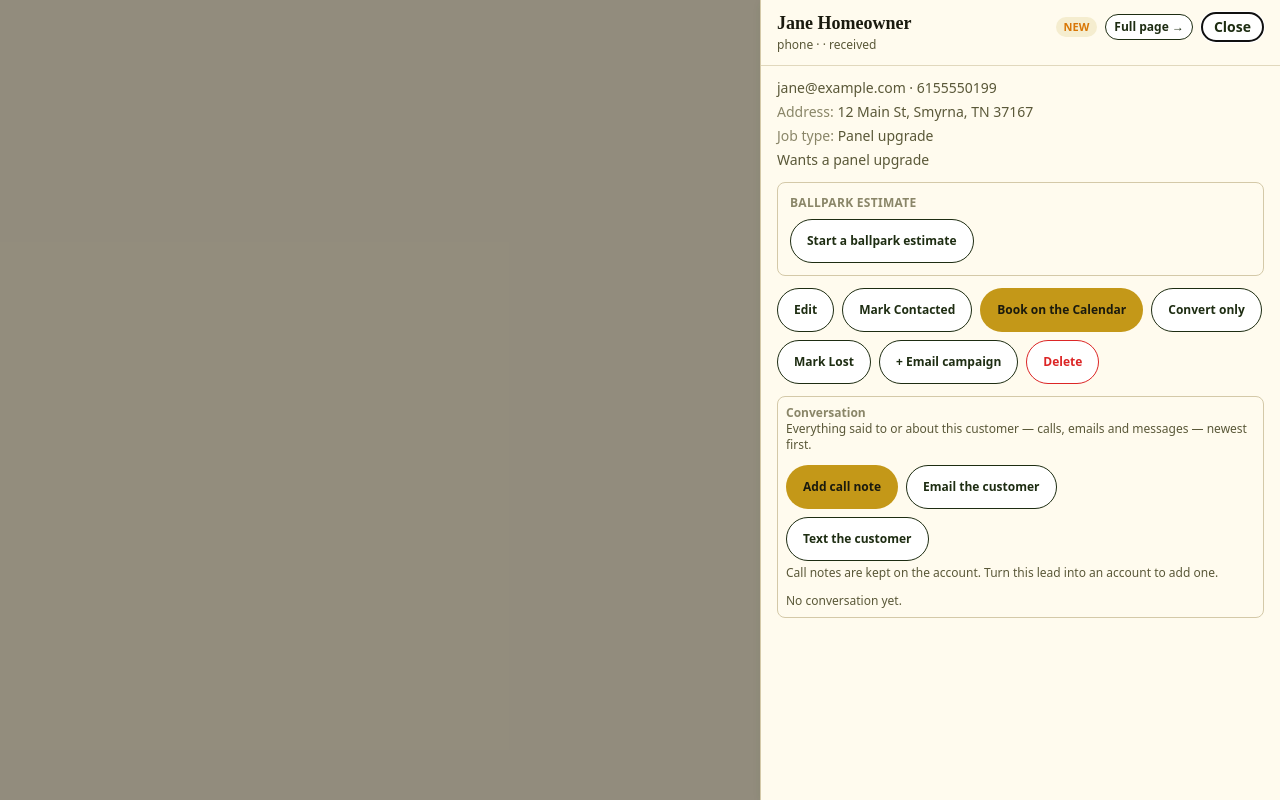
LeadDrawer › a brand-new hand-entered lead (phone source, smsConsent null, never on the website form) can be texted: Text the customer, type, Send text
Click the button "Text the customer" at (857, 538), box 786,516 -> 928,560
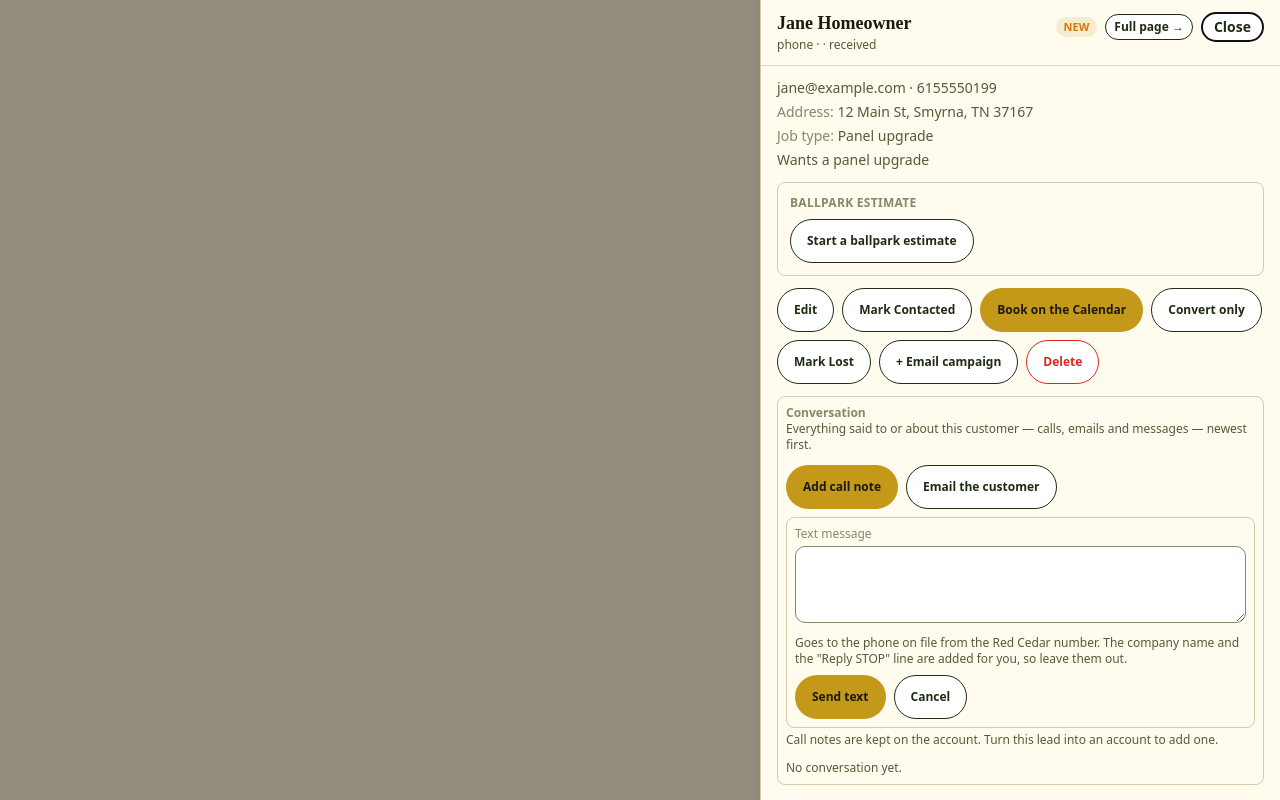
Type "We can be there Tuesday at 9. Does that work?" into the text box labelled "Text message" at (1020, 584), box 795,546 -> 1246,624
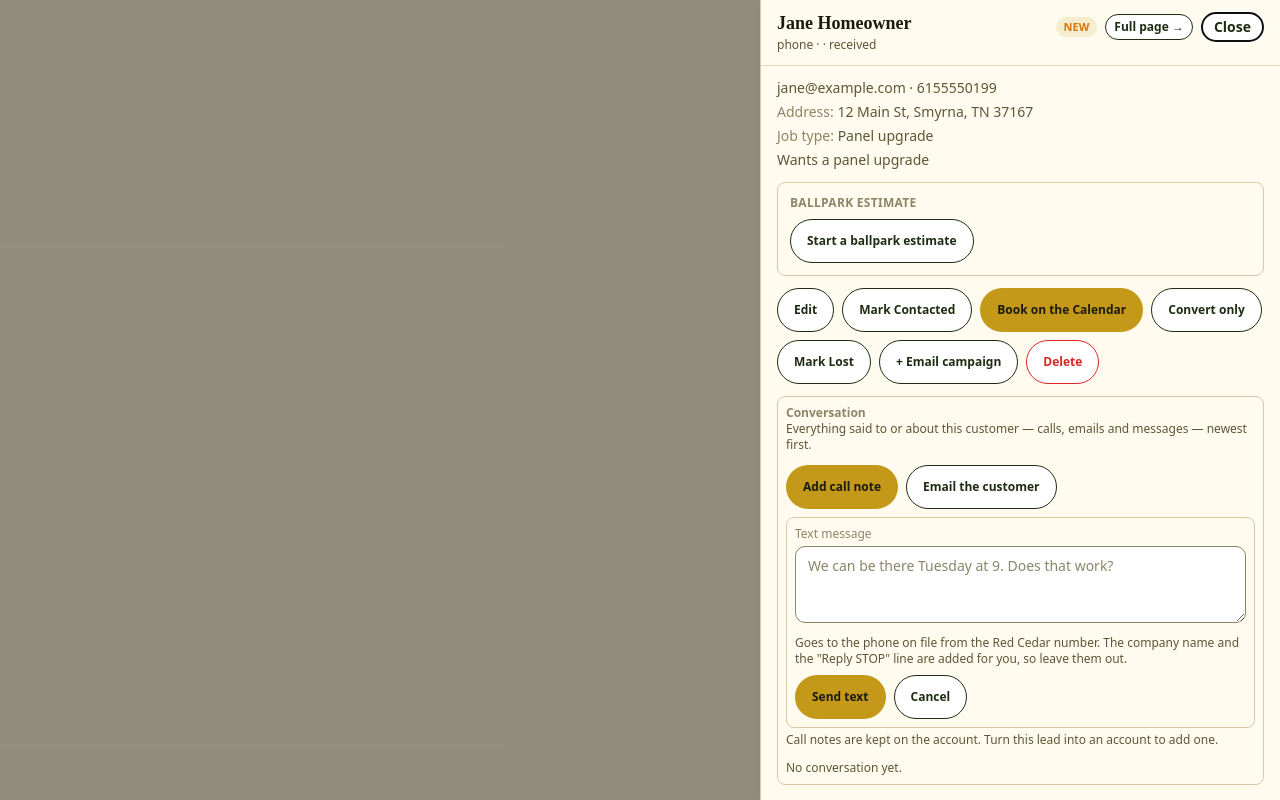
Click the button "Send text" at (840, 698), box 795,676 -> 886,720
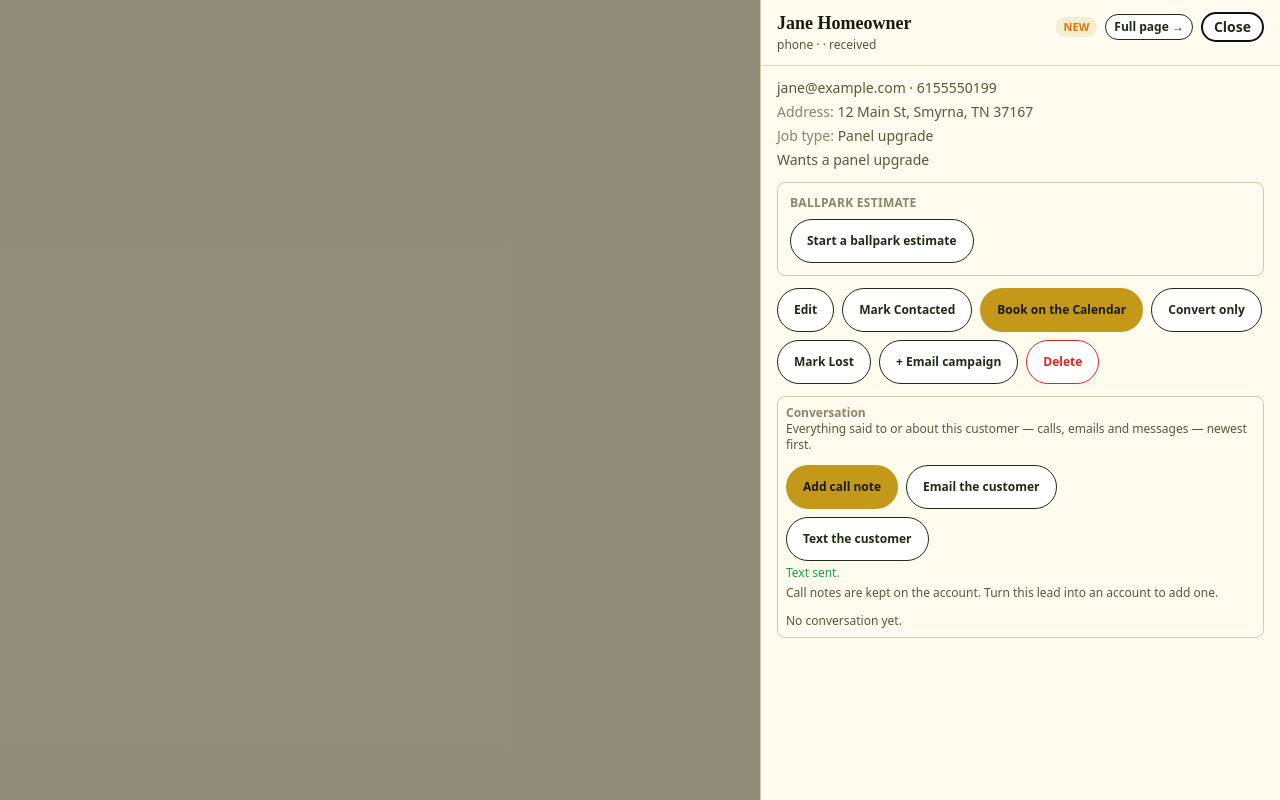
Result: the text "Text sent." is shown at 786,564 -> 840,580
